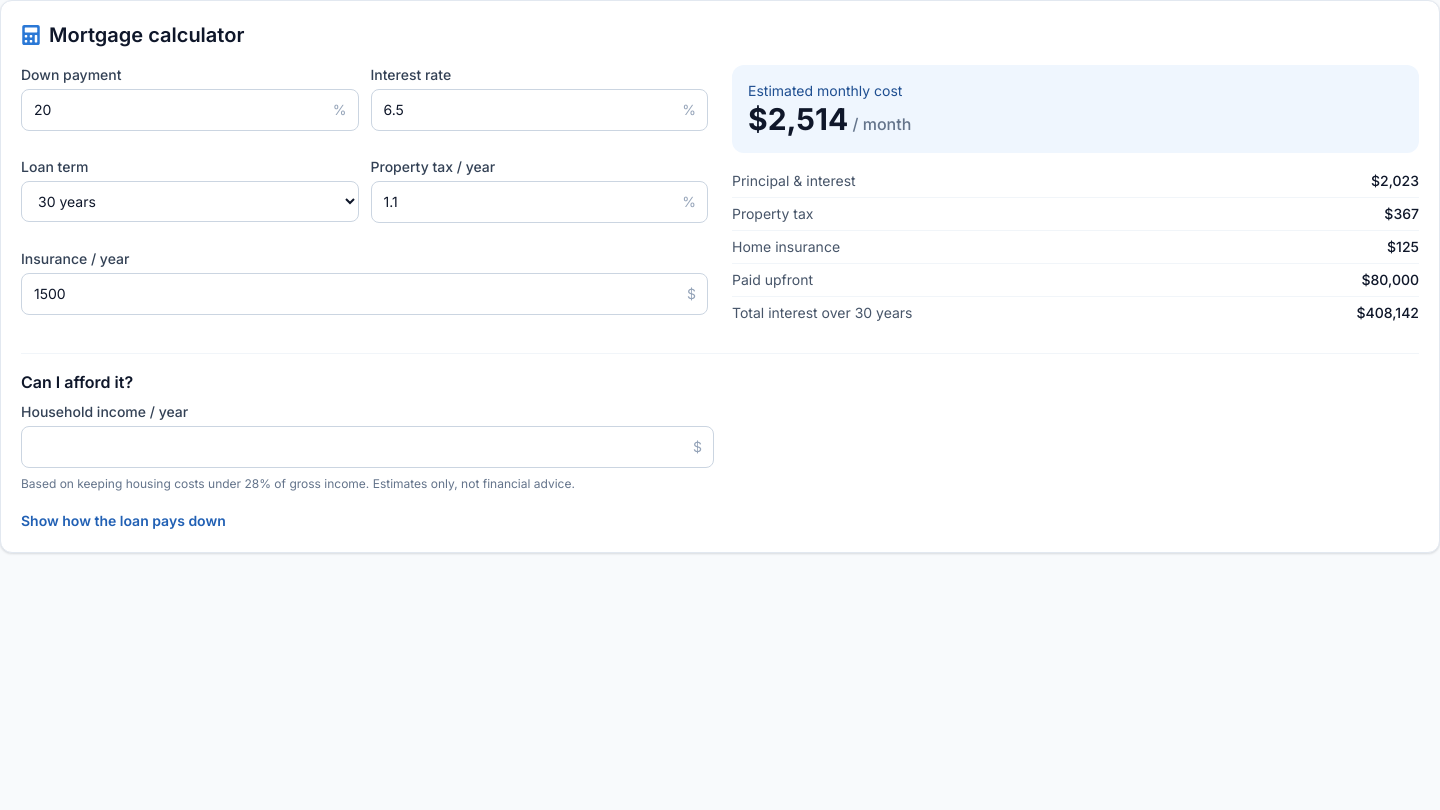
Scenario: MortgageCalculator › says whether the home fits an income
In the number field labelled "Household income / year": (368, 447) [21,426,714,468], type "150000"
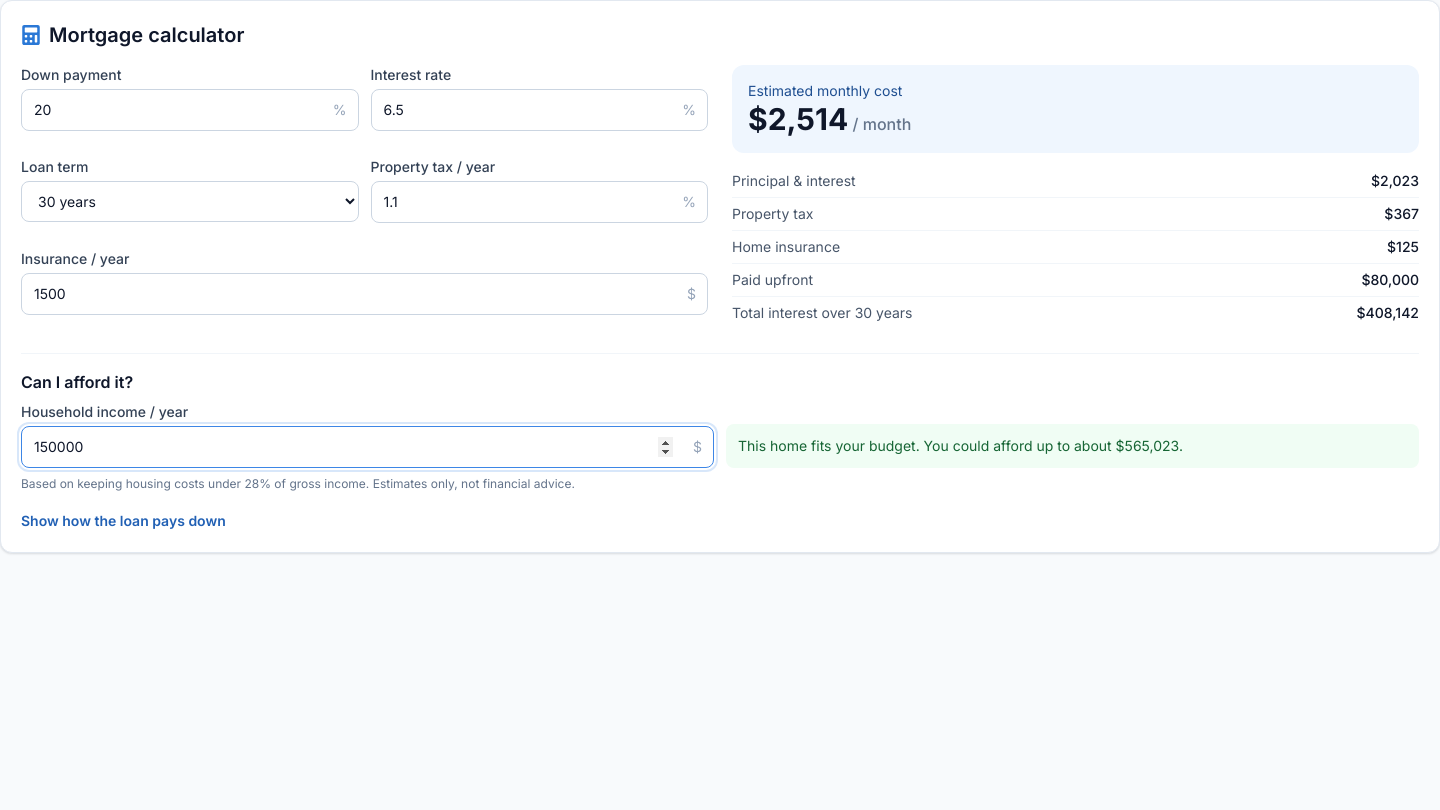
Expected: the message shows "fits your budget", [738,437,1183,454]
Replace the text in the number field labelled "Household income / year" with "60000": (368, 447) [21,426,714,468]
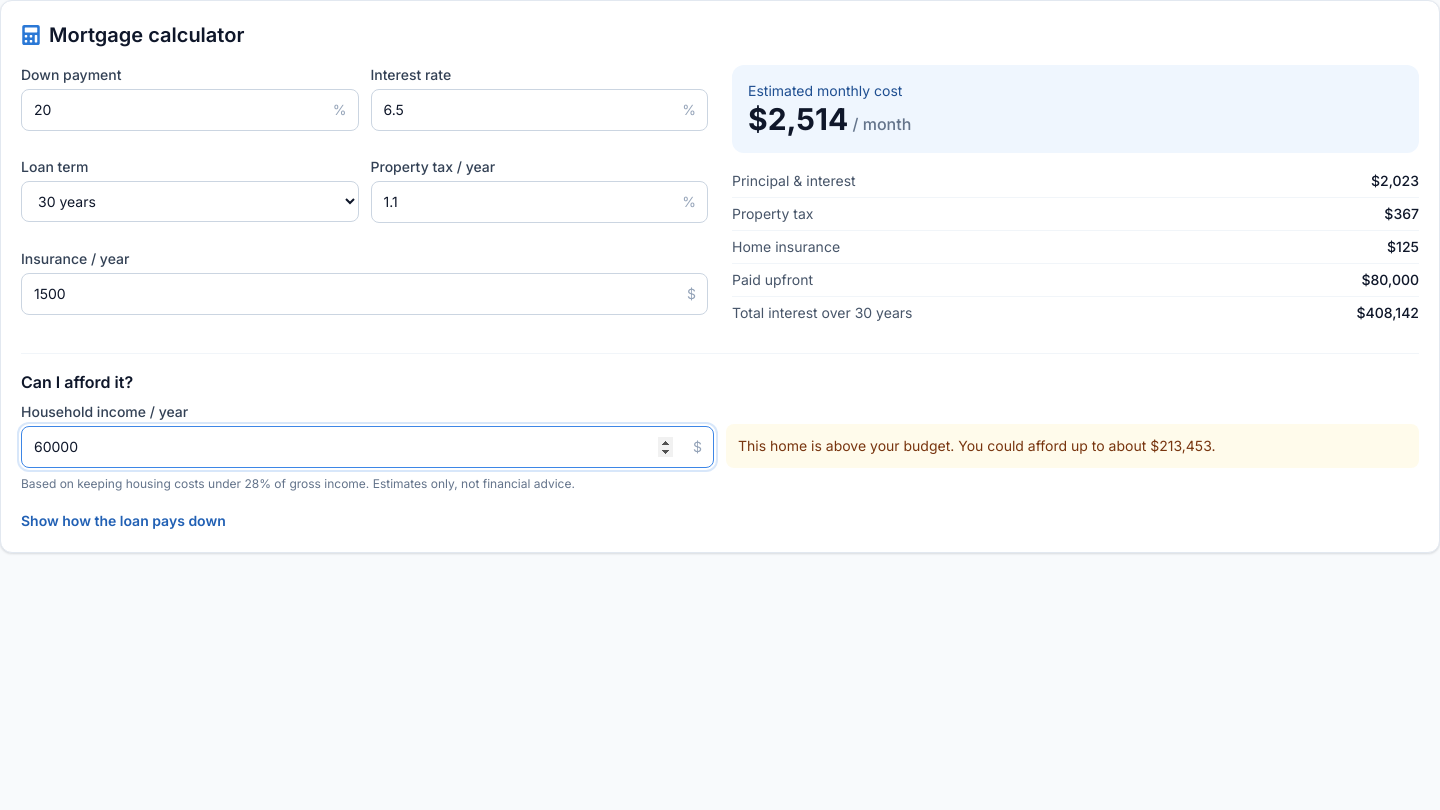
Expected: the message shows "above your budget", [738,437,1216,454]
